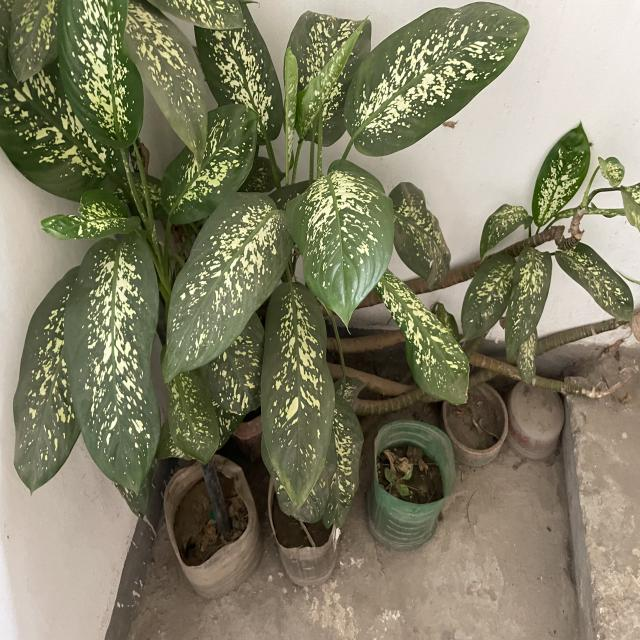Breeding Place: (166, 457, 259, 592), (369, 421, 452, 550), (272, 462, 341, 590), (444, 382, 506, 465), (513, 385, 564, 458)
